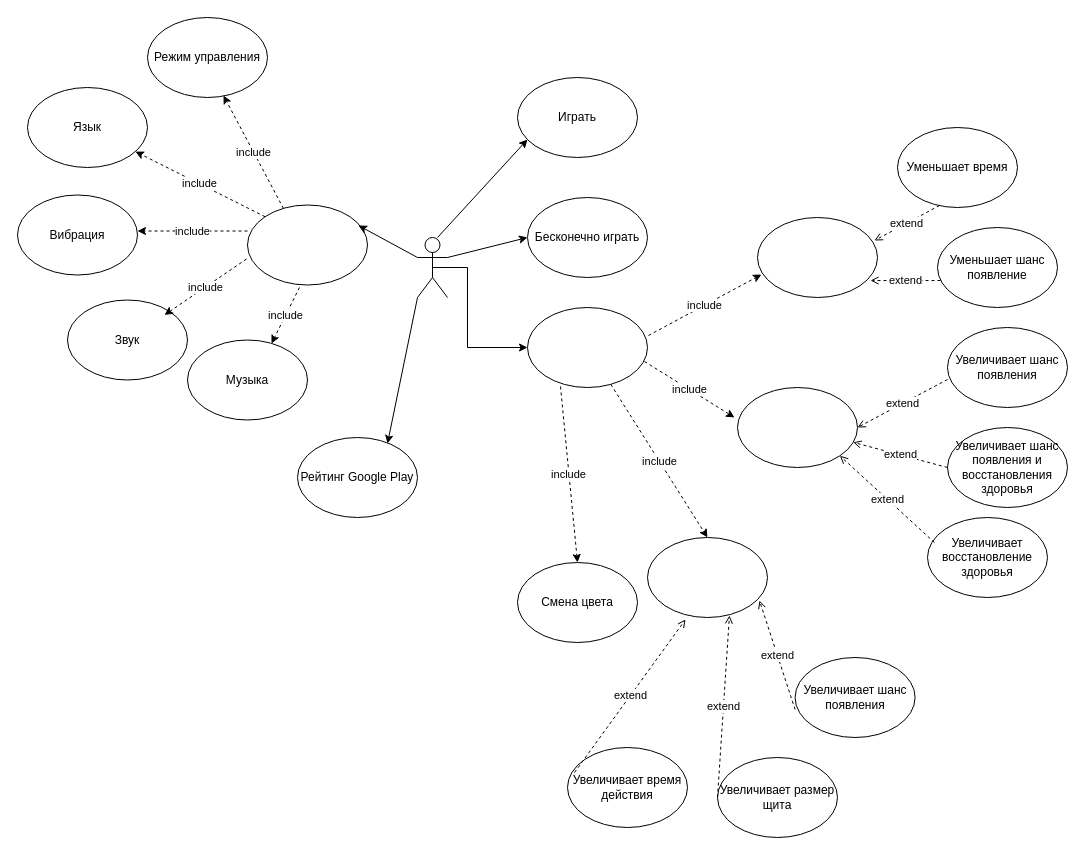
The diagram is 1085 pixels wide and 855 high, and some of its shapes have lost their labels. The centre of each missing label's shape, as x and y in pixels:
Восстановление здоровья: (x=797, y=427)
Заморозка: (x=817, y=257)
Заряд способностей: (x=707, y=577)
Игрок: (x=432, y=267)
Использовать магазин: (x=587, y=347)
Настроить игру: (x=307, y=244)
